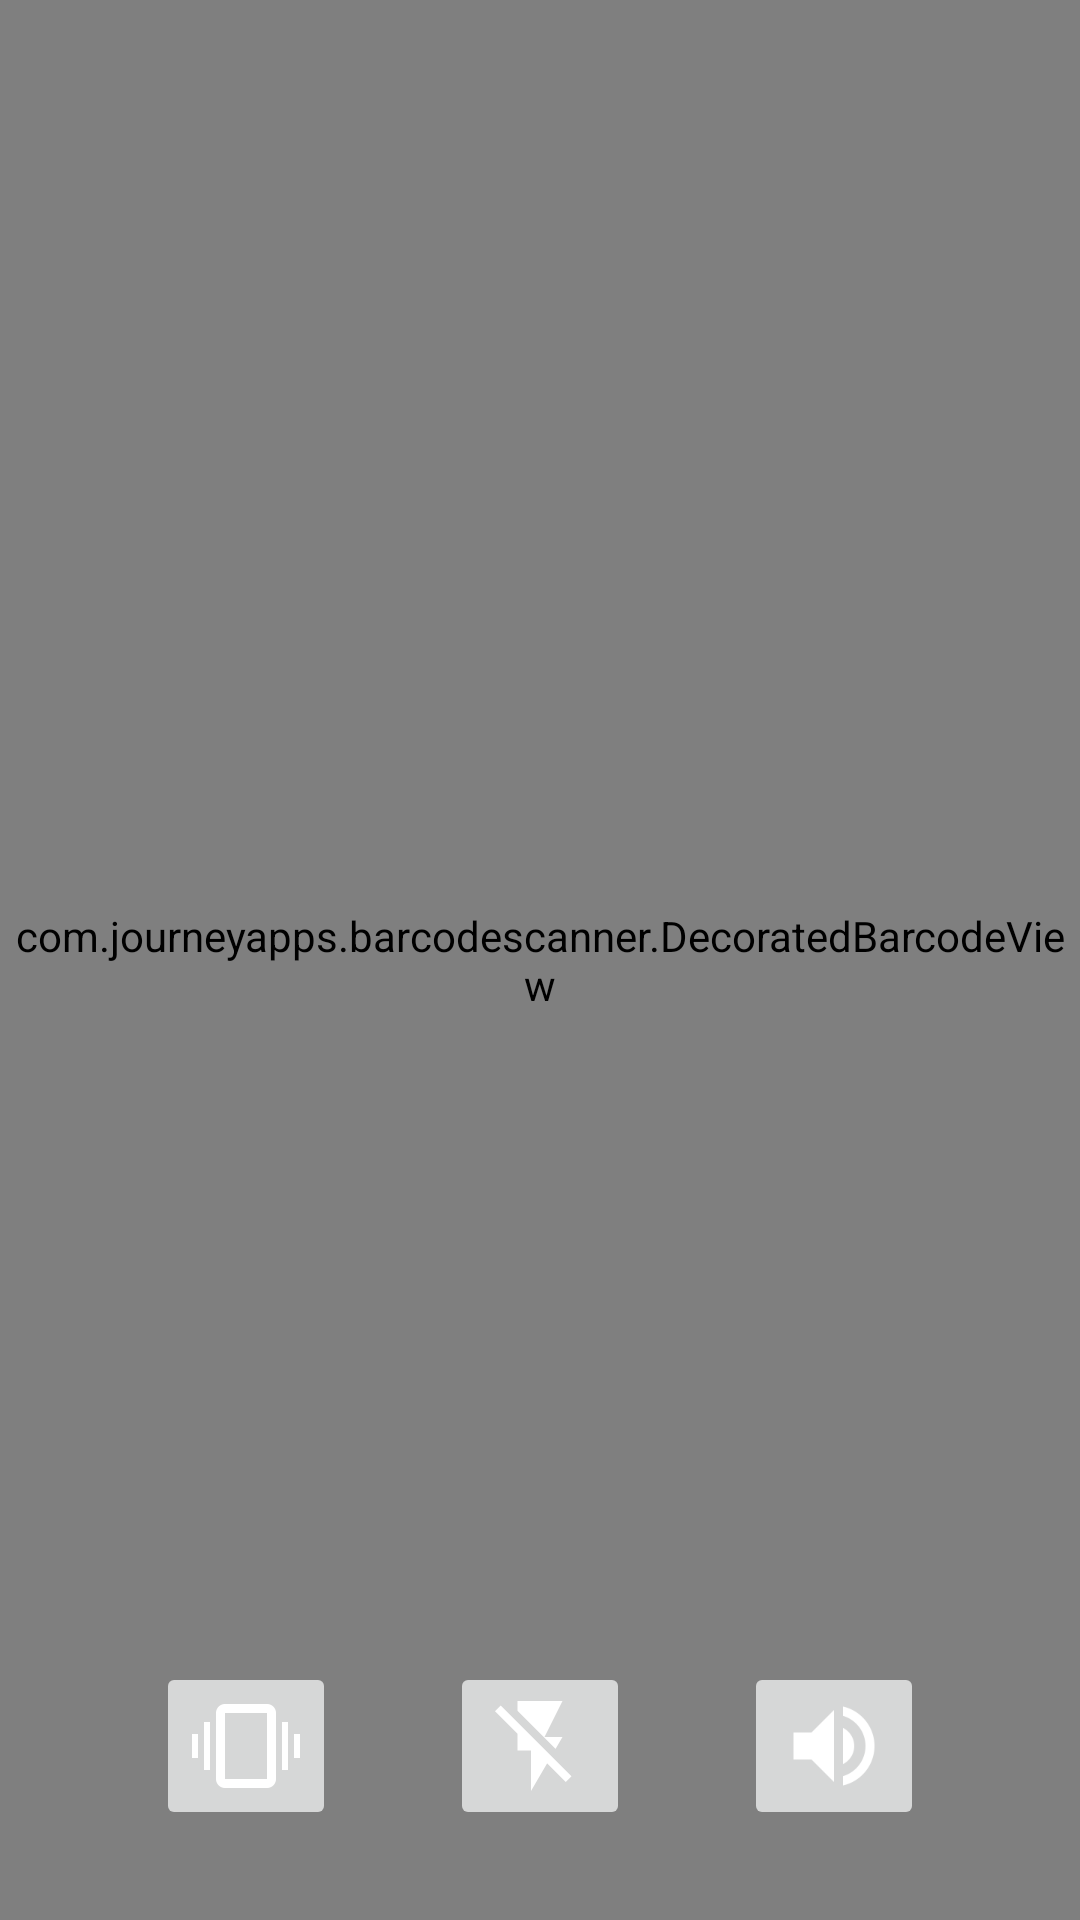

Named icons in this screenshot (1080 × 1920) and their bounding boxes, bbox=(x1, y1, x2, y2):
flash off: bbox=(462, 1680, 618, 1812)
vibration: bbox=(168, 1680, 324, 1812)
volume up: bbox=(756, 1680, 912, 1812)
